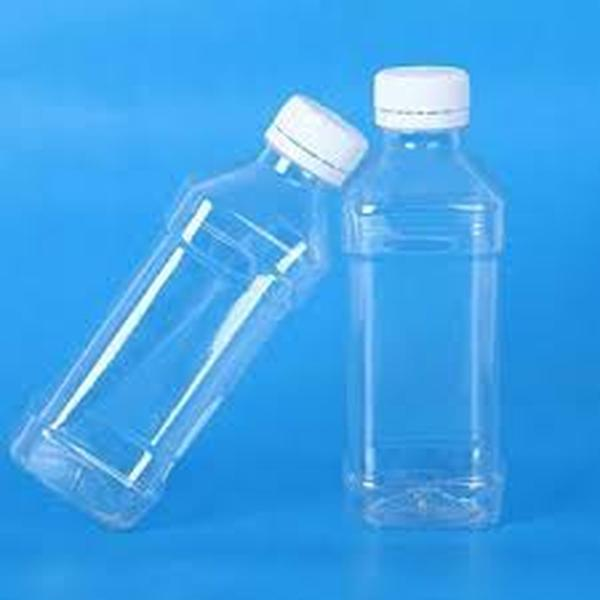tutuma: (9, 72, 338, 537), (346, 44, 522, 550)
